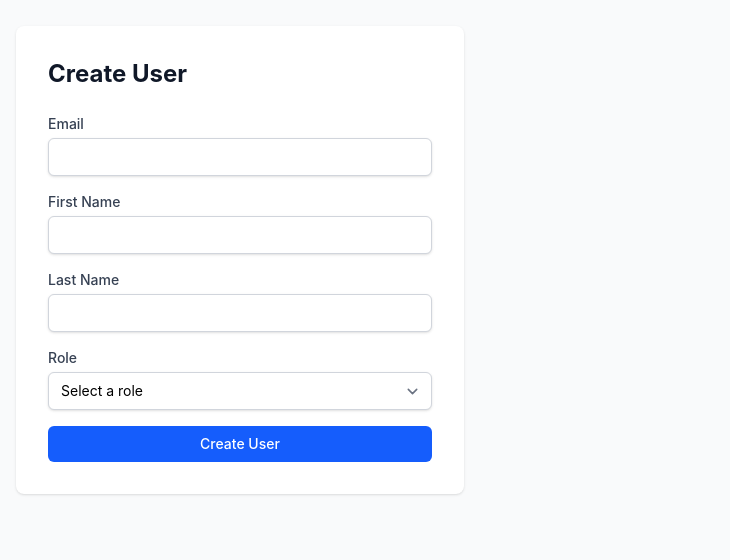
Test: CreateUserPage › shows validation error for invalid email
Type "not-an-email" into the field labelled "Email".
click(240, 157); type("not-an-email")  # box [48,138,432,176]
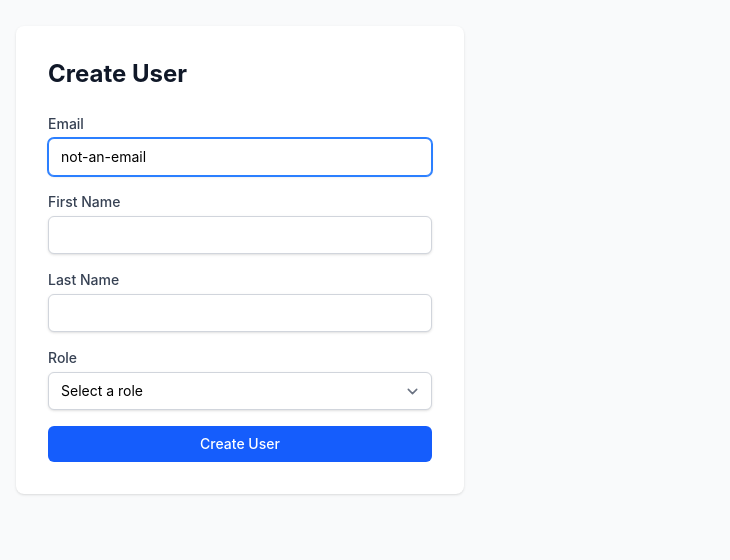
Click the button "Create User".
click(240, 444)  # box [48,426,432,462]
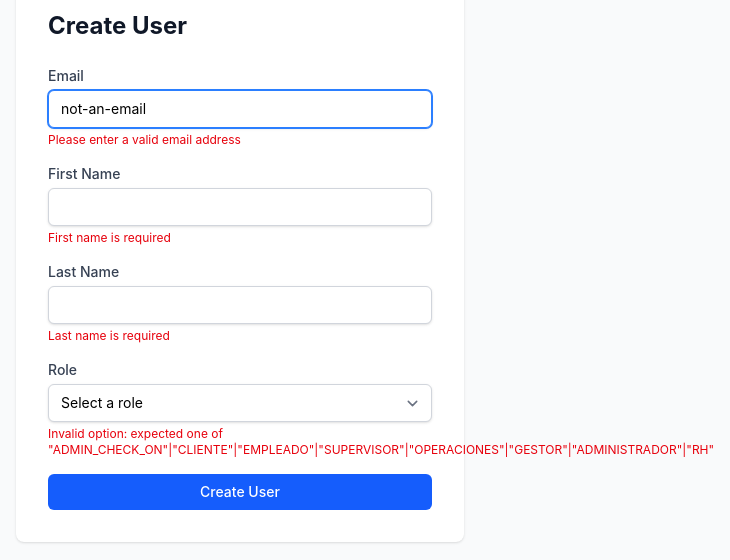
Now the message "Please enter a valid email address" is shown, box [48,132,241,147]
